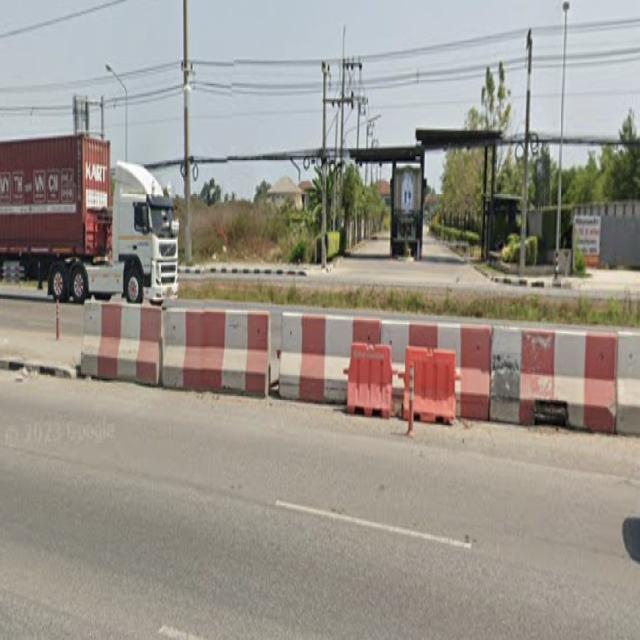fallen_object: (477, 320, 640, 452), (352, 307, 498, 428), (267, 297, 396, 424), (145, 292, 275, 416), (67, 279, 174, 404)
